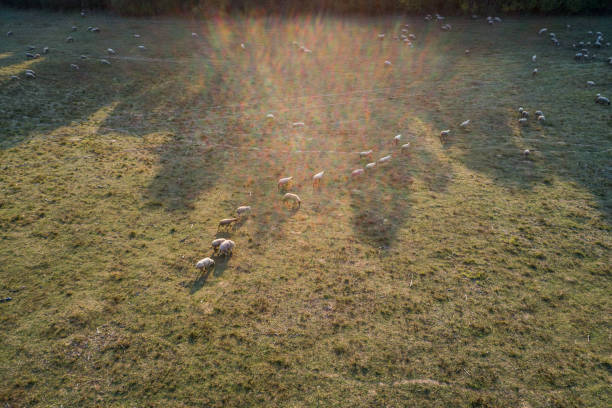sheep: (282, 190, 303, 211), (345, 165, 368, 181), (217, 216, 241, 230), (277, 174, 296, 191), (197, 257, 218, 272), (216, 240, 234, 256), (364, 160, 382, 176), (289, 120, 309, 134), (358, 147, 376, 162), (311, 170, 326, 187), (389, 132, 403, 148), (211, 236, 227, 249), (237, 205, 253, 218), (379, 152, 392, 167), (457, 120, 476, 130), (438, 126, 451, 139), (597, 94, 611, 106), (398, 140, 410, 153), (530, 106, 544, 117), (263, 114, 276, 125), (439, 22, 453, 32), (528, 54, 540, 65), (536, 27, 547, 38), (585, 79, 597, 89), (298, 44, 314, 51), (515, 106, 525, 116), (137, 43, 148, 52), (514, 117, 527, 124), (492, 15, 501, 25), (549, 36, 557, 47), (381, 59, 392, 67), (192, 30, 200, 41), (536, 115, 545, 124), (400, 34, 409, 43), (408, 34, 416, 43), (239, 43, 248, 51), (532, 67, 539, 77), (378, 32, 388, 39), (546, 31, 554, 39), (576, 50, 582, 60), (521, 110, 528, 118), (485, 17, 493, 24), (133, 33, 142, 39), (291, 41, 301, 46)
